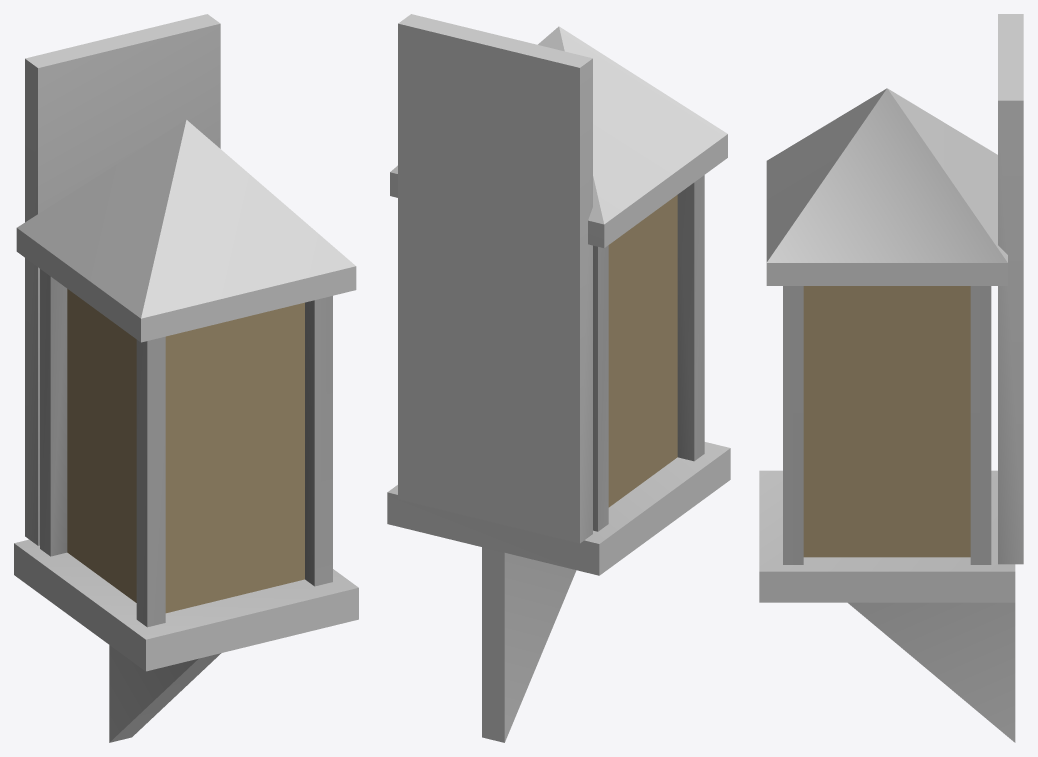
The model's file is lamp_sconce.glb.
The picture shows the model from 3 angles, left to right: view 1: azimuth 30°, elevation 25°; view 2: azimuth 150°, elevation 25°; view 3: azimuth 270°, elevation 25°; orthographic projection. The views are drawn at different scales.
Visible parts, largest first — view 1: lamp_sconce_MC_Roof, lamp_sconce_MC_Glow; view 2: lamp_sconce_MC_Roof, lamp_sconce_MC_Glow; view 3: lamp_sconce_MC_Roof, lamp_sconce_MC_Glow.
Boxes of the visible parts, box(x1,y1,x2,y2) form: lamp_sconce_MC_Roof: box(14, 14, 358, 742); lamp_sconce_MC_Glow: box(67, 289, 304, 613); lamp_sconce_MC_Roof: box(387, 14, 730, 742); lamp_sconce_MC_Glow: box(608, 195, 677, 507); lamp_sconce_MC_Roof: box(759, 14, 1023, 742); lamp_sconce_MC_Glow: box(803, 286, 970, 557).
Bounding box in the file's own units: 0.2828 × 0.88 × 0.31.
